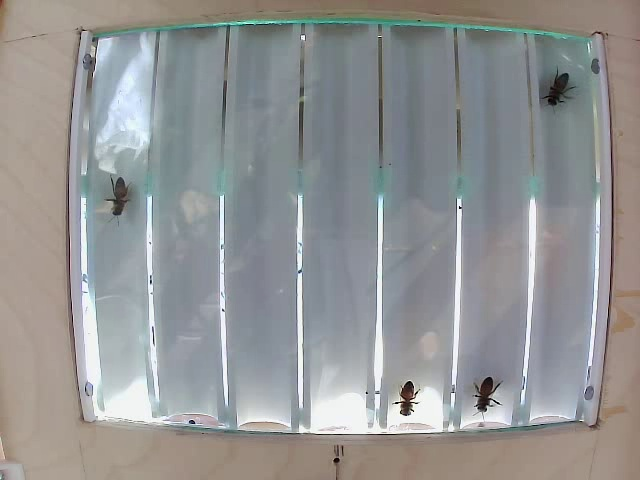bee: (102, 170, 136, 226), (539, 61, 573, 112), (472, 373, 501, 416), (394, 373, 420, 415)
